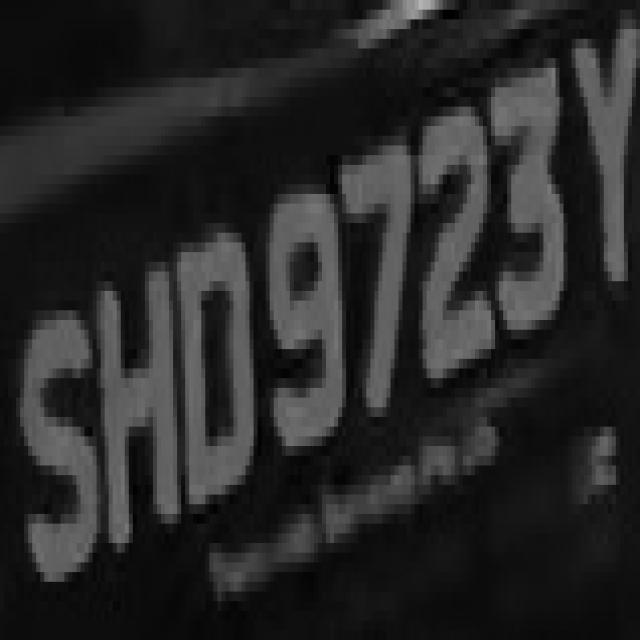2: (411, 97, 491, 427)
3: (483, 59, 572, 436)
7: (334, 146, 415, 427)
9: (254, 184, 354, 485)
D: (169, 213, 258, 514)
H: (93, 223, 181, 592)
S: (4, 242, 97, 640)
Y: (572, 39, 632, 320)
